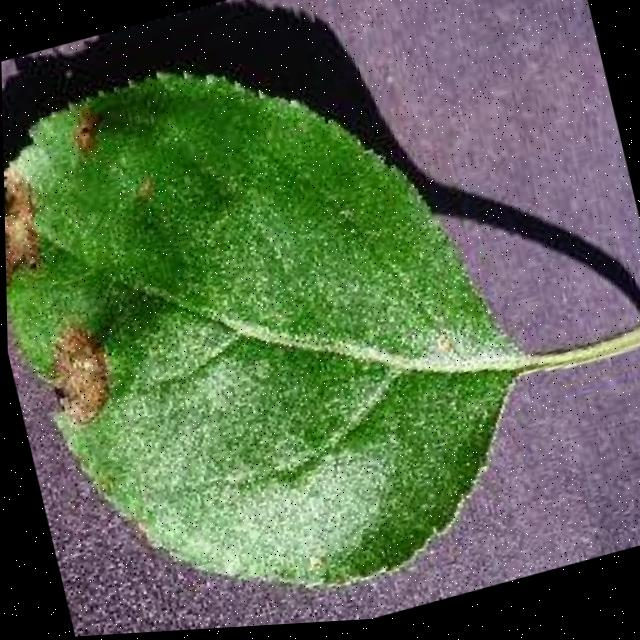black_rot: (31, 307, 136, 441), (4, 156, 69, 297), (50, 92, 123, 158)
